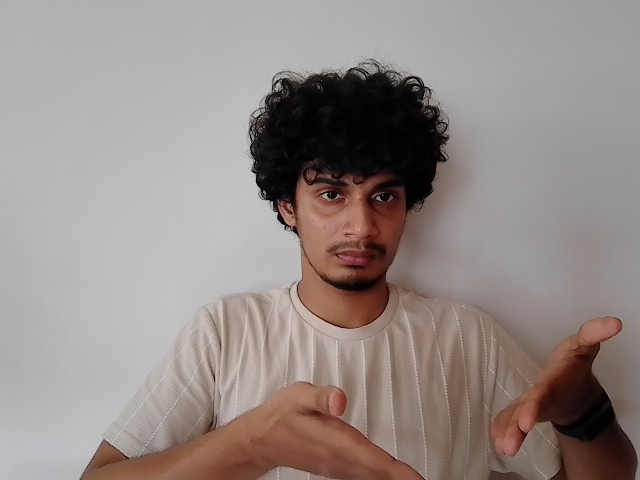here: (264, 316, 624, 477)
